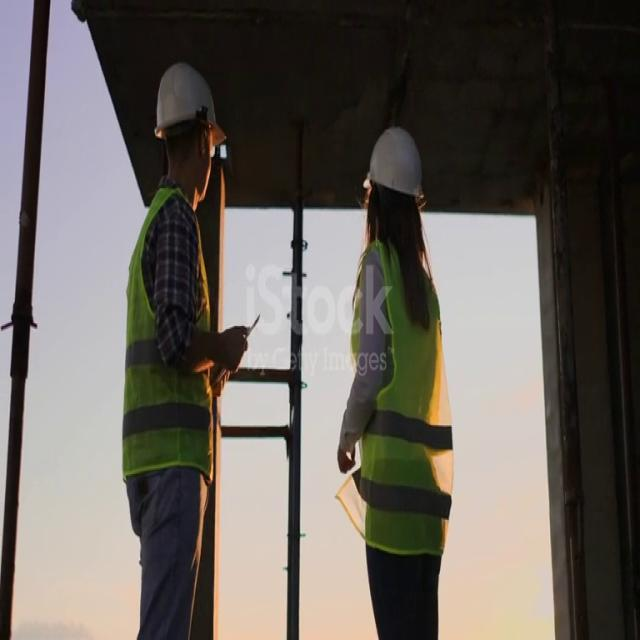capacete: (141, 60, 231, 150), (356, 119, 434, 217)
